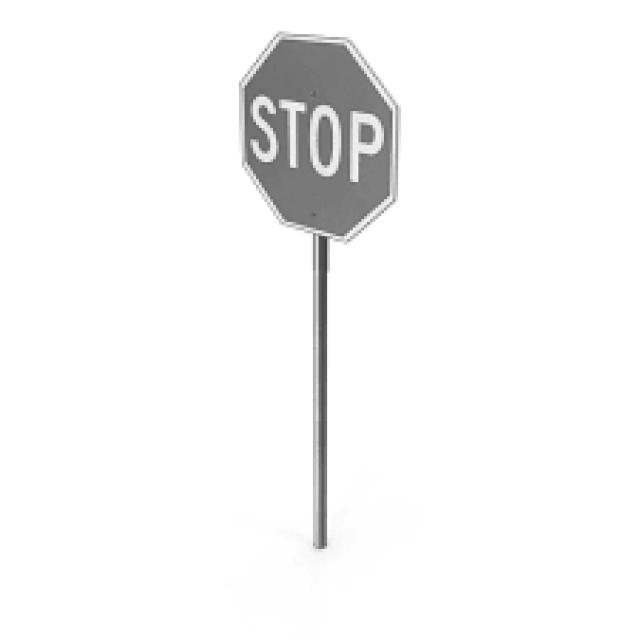stop sign: (237, 27, 398, 242)
